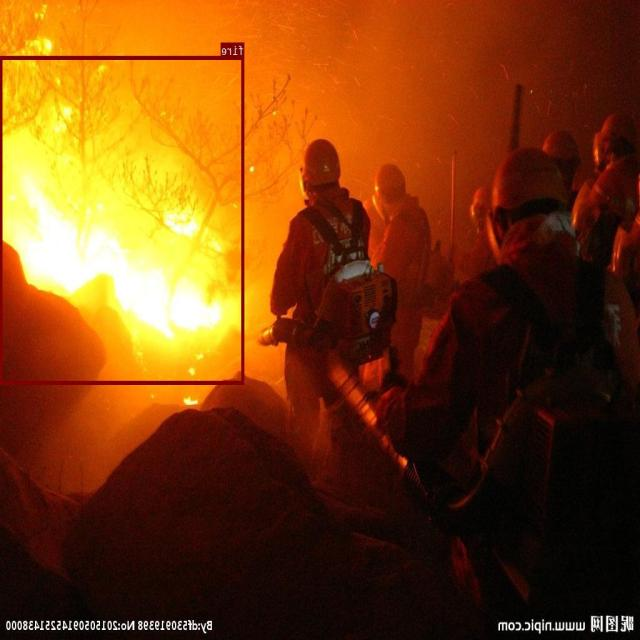fire: (1, 55, 244, 384)
